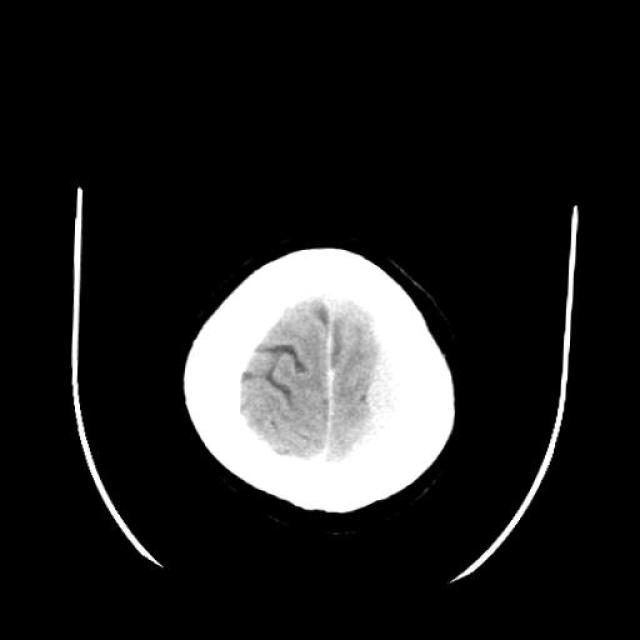Subdural: (334, 328, 436, 442)
